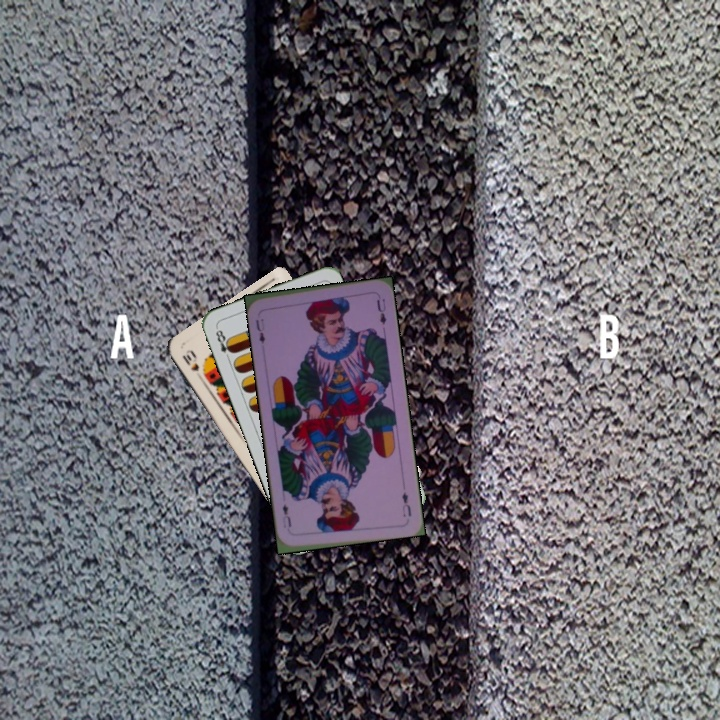E8: (211, 324, 236, 363)
EU: (398, 488, 414, 520), (251, 315, 267, 346)
S10: (178, 346, 205, 383)
